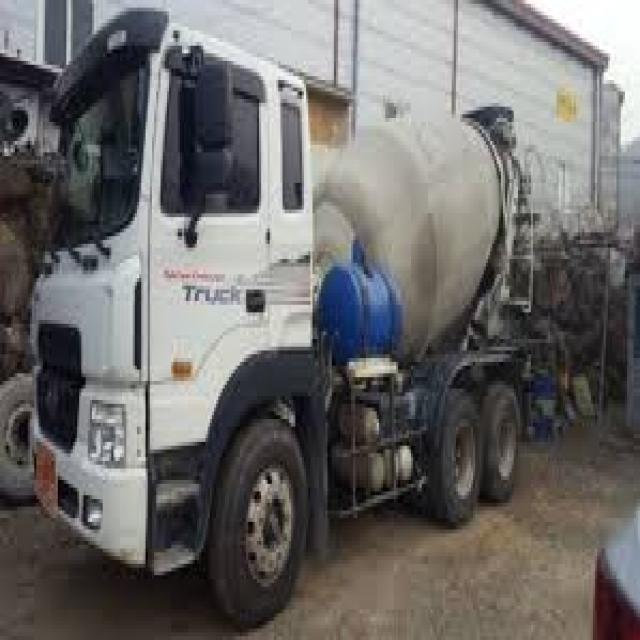Mixer Truck: (27, 4, 541, 630)
